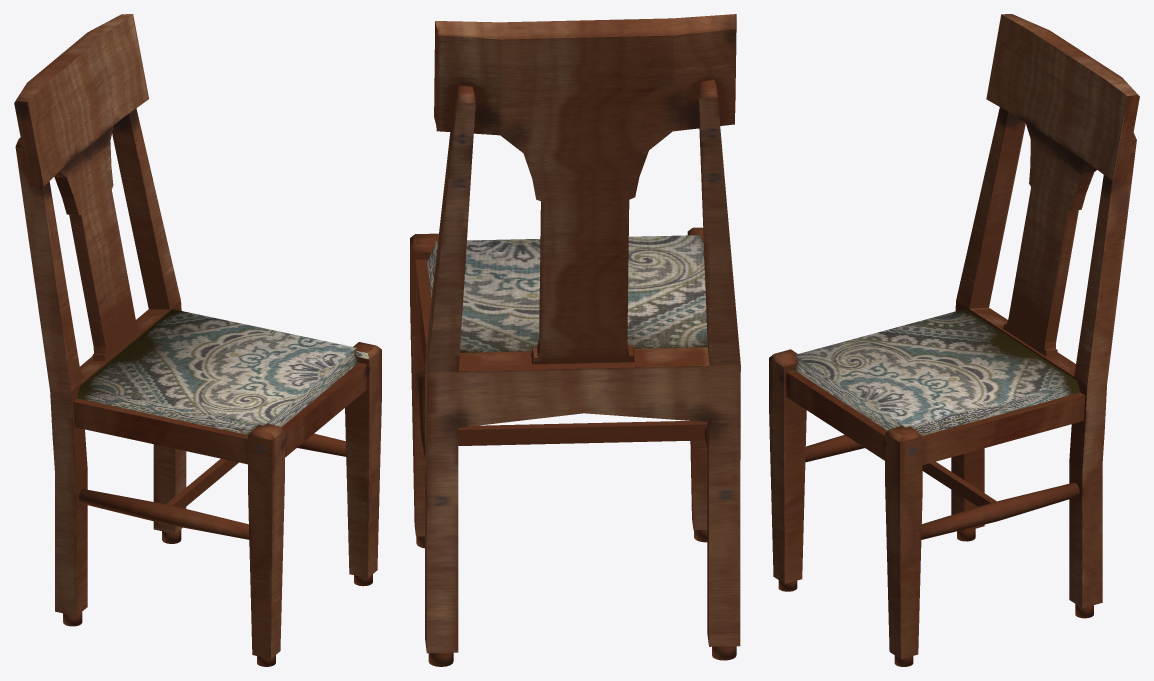
The picture shows the model from 3 angles, left to right: view 1: azimuth 30°, elevation 25°; view 2: azimuth 150°, elevation 25°; view 3: azimuth 270°, elevation 25°; orthographic projection. The views are drawn at different scales.
Visible parts, largest first — view 1: Cube.003; view 2: Cube.003; view 3: Cube.003.
Part boxes in pixels (left/top/right/bottom): Cube.003: left=14, top=14, right=381, bottom=666; Cube.003: left=410, top=14, right=740, bottom=666; Cube.003: left=769, top=14, right=1139, bottom=666.
Size of the model in its own units: 1.97 by 3.13 by 2.06.
4 materials, 4 textured.
